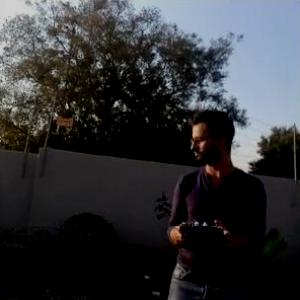follow: (162, 102, 277, 299)
